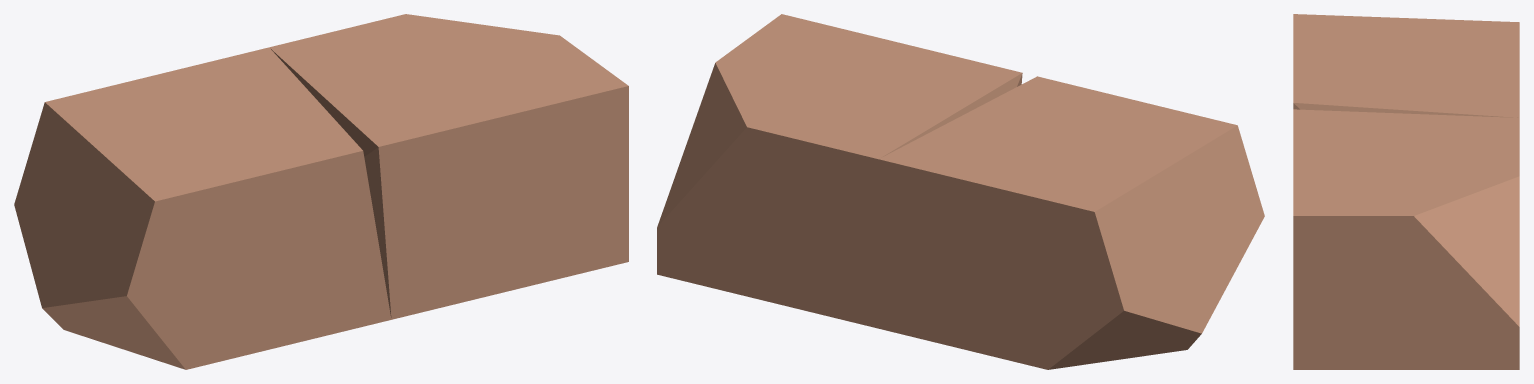
Rendered from Brick_05.fbx.
The picture shows the model from 3 angles, left to right: view 1: azimuth 30°, elevation 25°; view 2: azimuth 150°, elevation 25°; view 3: azimuth 270°, elevation 25°; orthographic projection. The views are drawn at different scales.
Parts seen in each view (by area): view 1: Brick_05; view 2: Brick_05; view 3: Brick_05.
Boxes of the visible parts, bbox=[...] form: Brick_05: bbox=[14, 14, 628, 369]; Brick_05: bbox=[657, 14, 1264, 369]; Brick_05: bbox=[1293, 14, 1519, 369].
Size of the model in its own units: 22.82 by 7.5 by 10.
